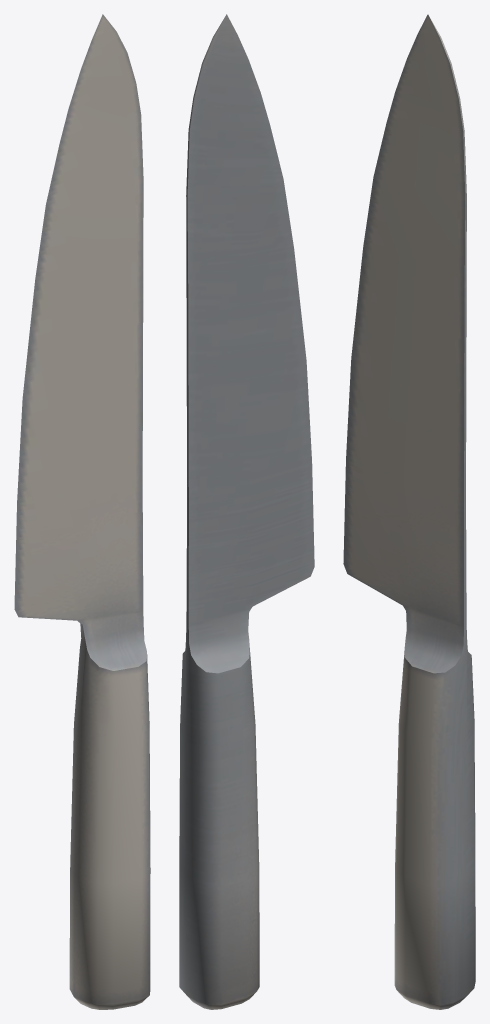
File: SM_Knife_02.glb
3 views of the same model, side by side, from view 1: azimuth 30°, elevation 25°; view 2: azimuth 210°, elevation 25°; view 3: azimuth 330°, elevation 25° (orthographic).
Parts seen in each view (by area): view 1: SM_Knife_02; view 2: SM_Knife_02; view 3: SM_Knife_02.
Boxes of the visible parts, x1=… form: SM_Knife_02: x1=14, y1=14, x2=150, y2=1009; SM_Knife_02: x1=179, y1=14, x2=314, y2=1009; SM_Knife_02: x1=343, y1=14, x2=475, y2=1009.
Size of the model in its own units: 0.0539 by 0.4044 by 0.0267.
Materials: 1 (1 with a texture image).
